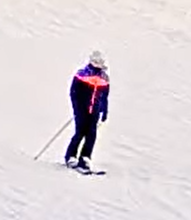skier: (34, 50, 111, 175)
